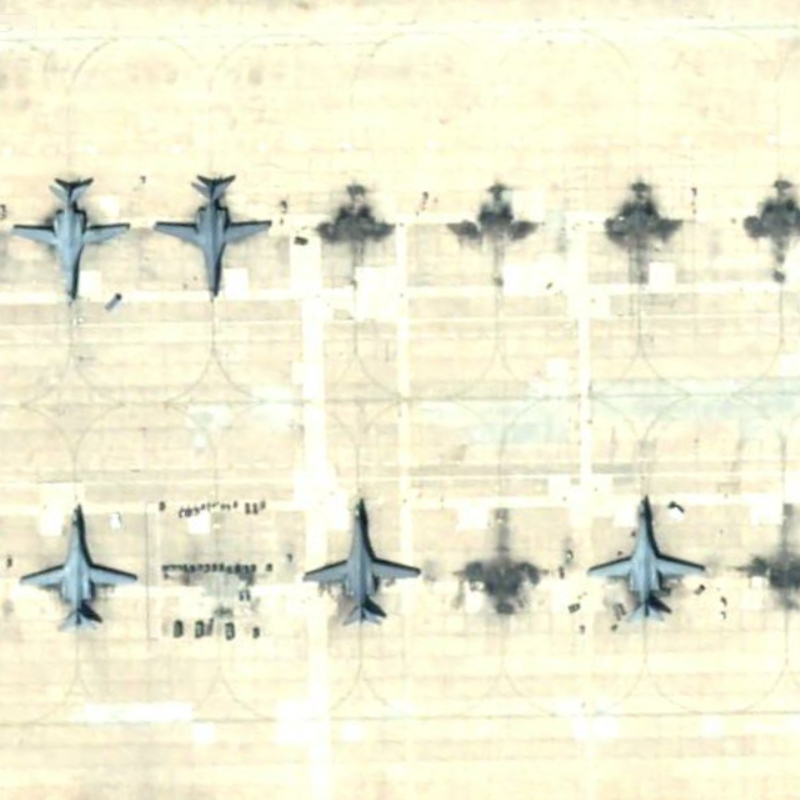A10: (13, 490, 146, 641), (294, 489, 428, 633), (7, 168, 142, 310), (149, 164, 284, 305), (582, 493, 712, 628)
